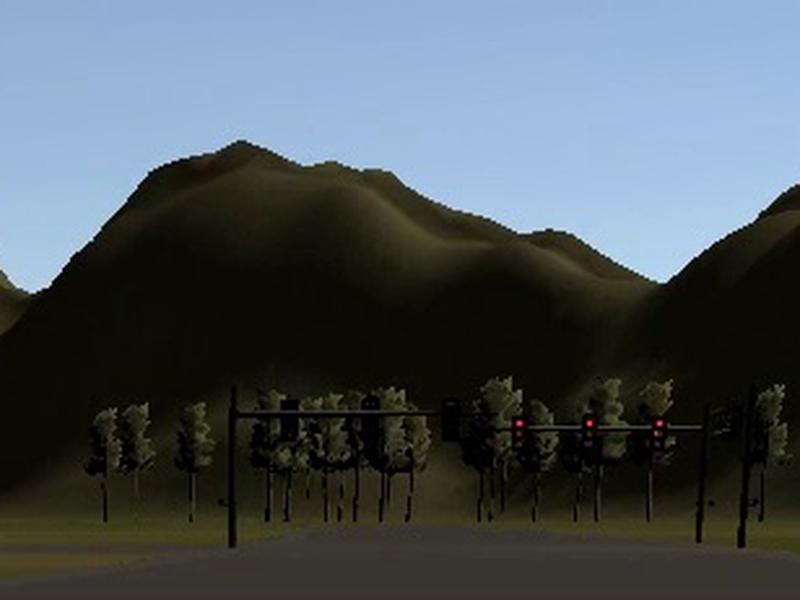Red: (651, 416, 665, 456), (583, 413, 596, 454), (513, 416, 526, 453)
